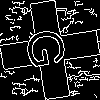G: (25, 25, 76, 71)
